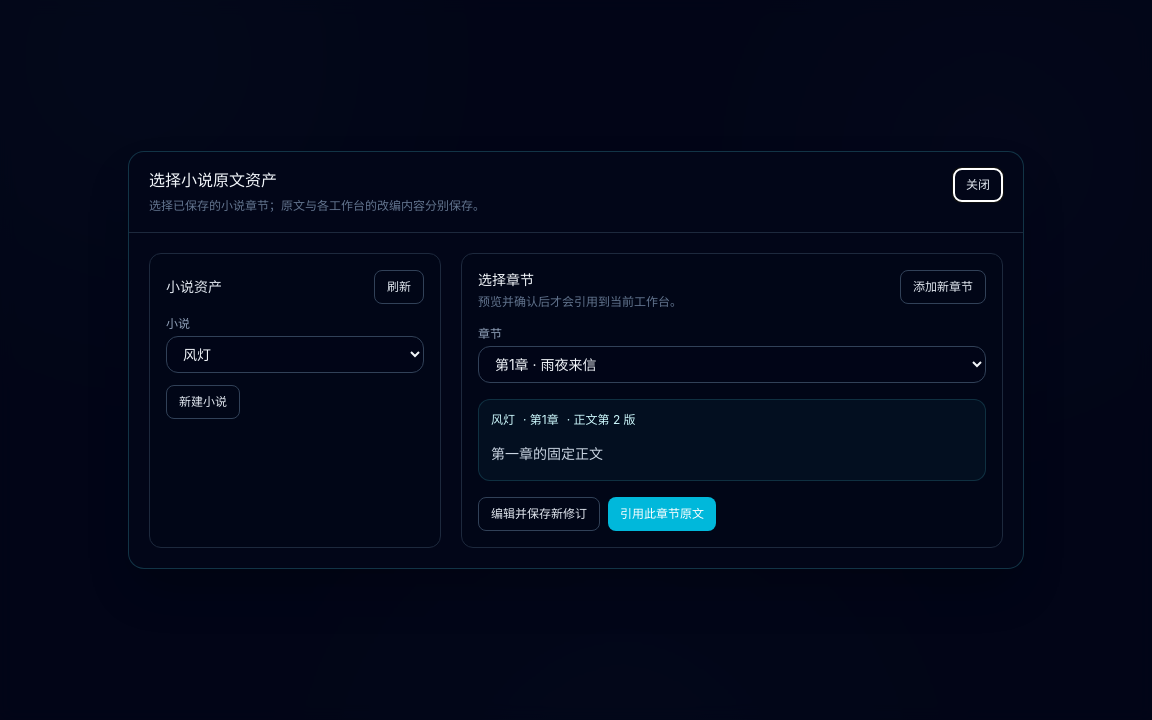
Test: NovelAssetManager › keeps an edit draft on a failed save and never selects it as a new source
The image size is (1152, 720).
Click the button "编辑并保存新修订" at (539, 514), box 478,497 -> 600,531
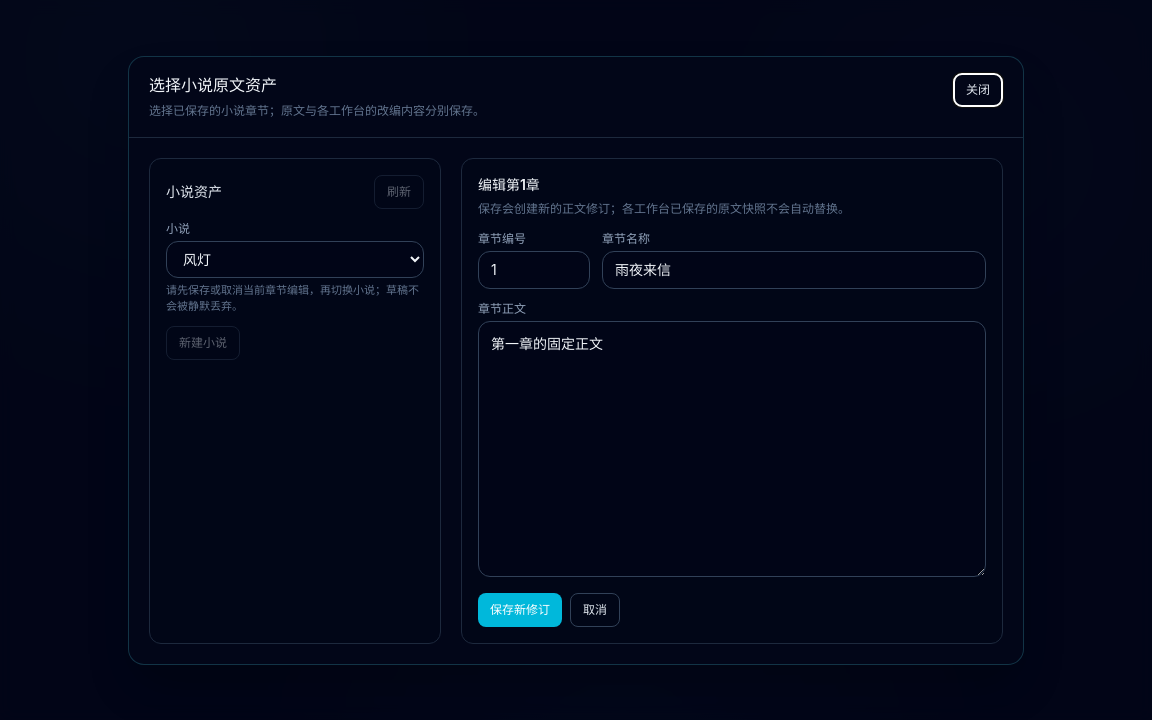
Replace the text in the field labelled "章节名称" with "雨夜来信（修订）" at (794, 270), box 602,250 -> 986,288
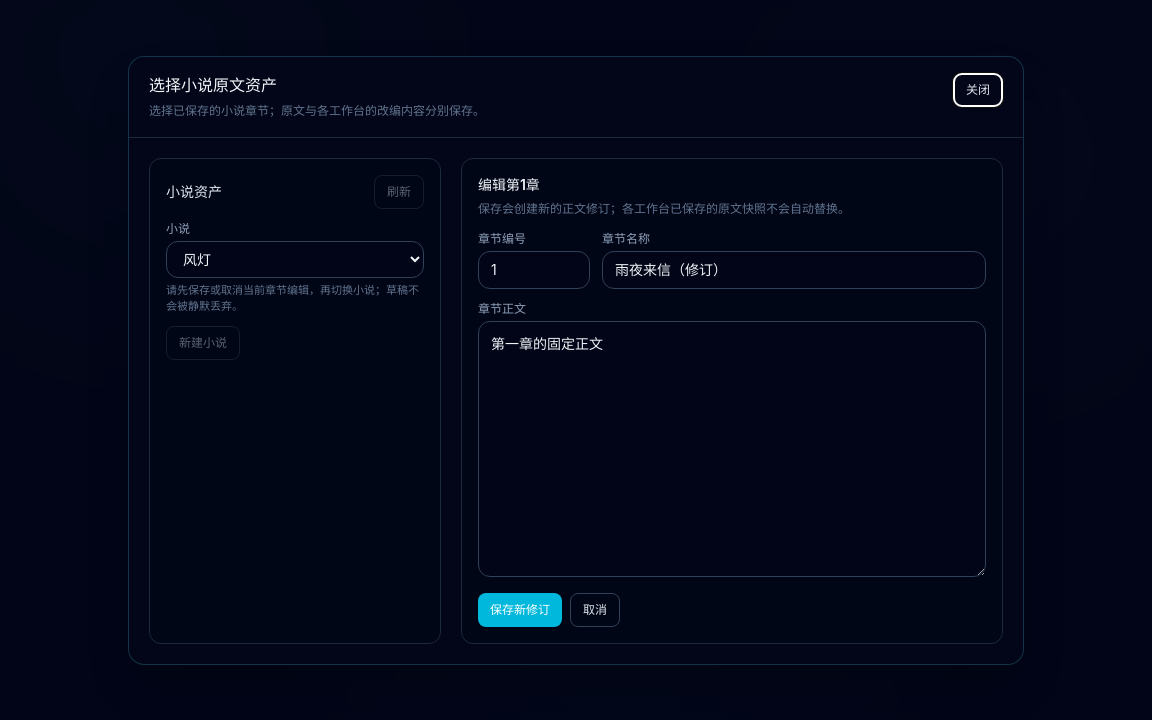
Replace the text in the text box named "小说章节正文" with "尚未保存的修订正文" at (732, 448), box 478,320 -> 986,576
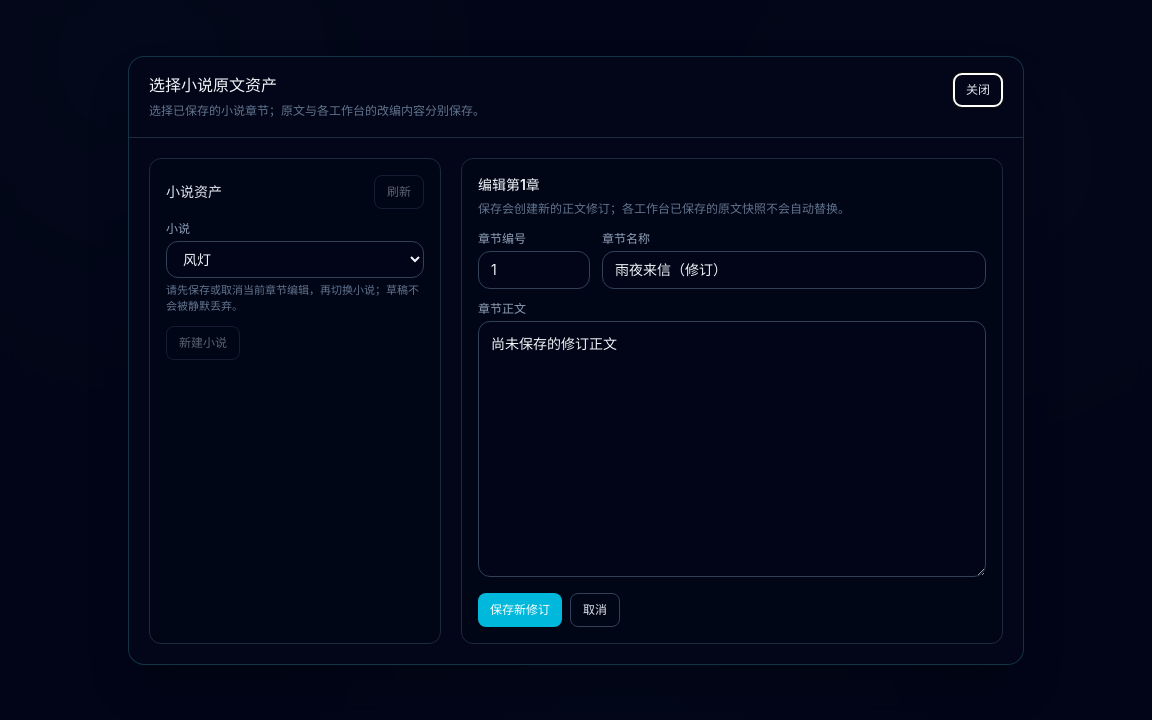
Click the button "保存新修订" at (520, 610), box 478,592 -> 562,626
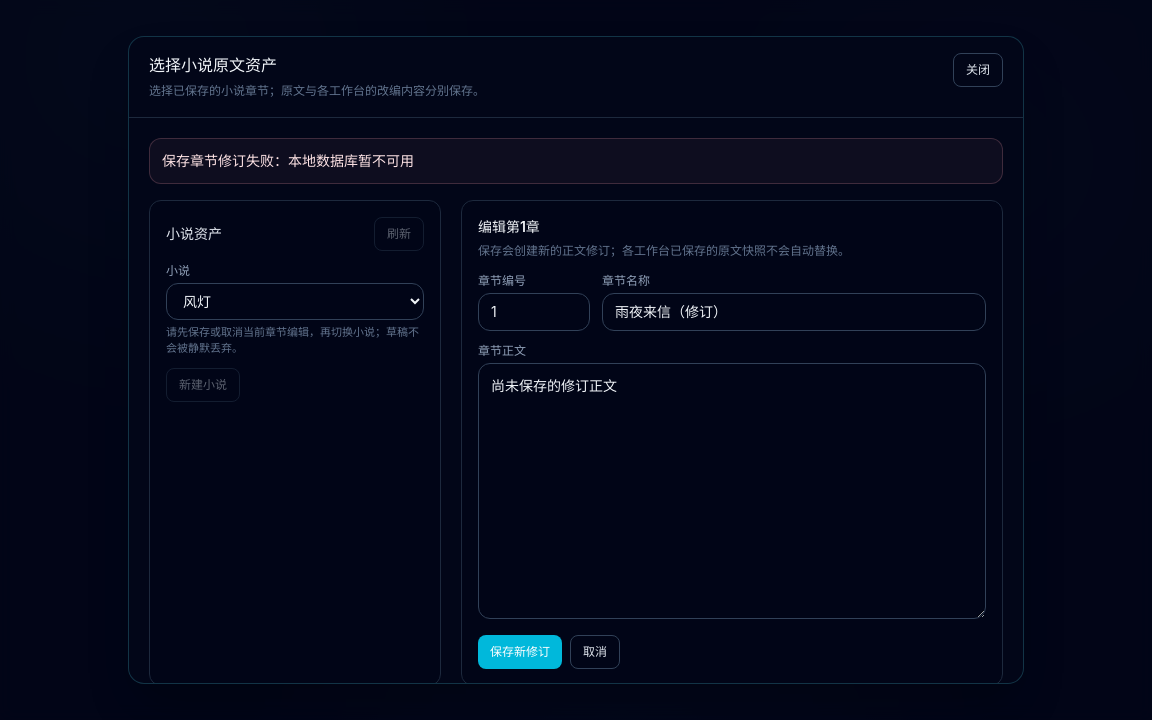
Check: the message shows "保存章节修订失败", box 162,152 -> 414,169
